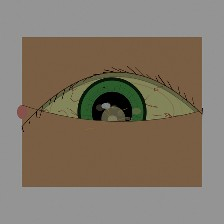corneal_ulcer: (93, 102, 134, 136)
